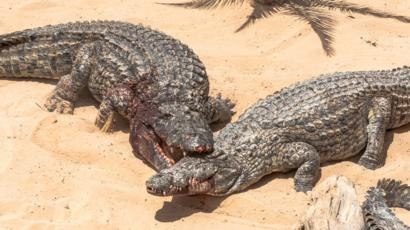crocodile: (0, 15, 237, 177), (140, 63, 410, 199)
